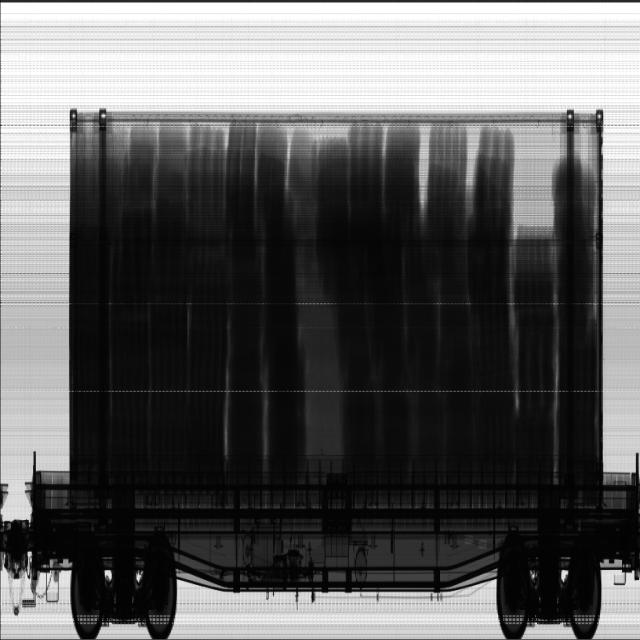clothes: (72, 125, 596, 468)
